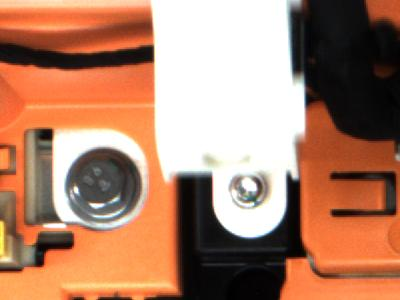nut_b: (63, 143, 141, 226)
